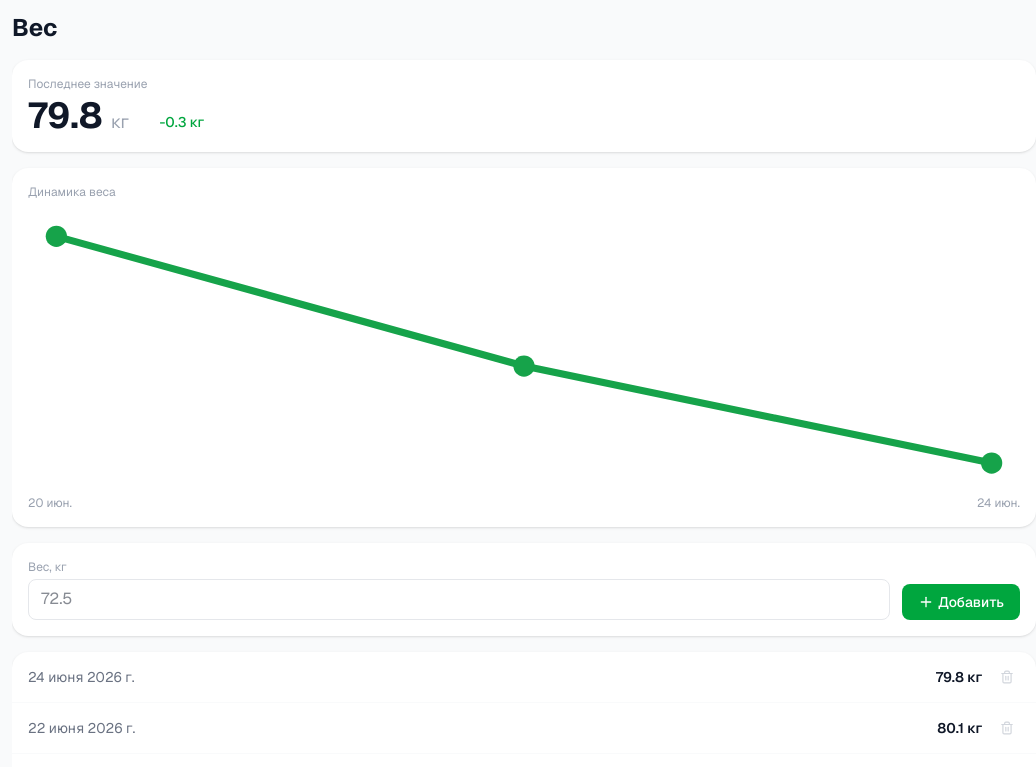
Scenario: WeightClient › deleteWeight_ShouldRemoveEntry_FromListAfterDelete
Note: history is shown reversed (newest first), first button deletes the newest (w3, 79.8)
What coordinates should you click on to do the following:
click the 1st button named "Удалить запись"
I would click on:
 (1007, 677)
Its box is [994,664,1020,690].
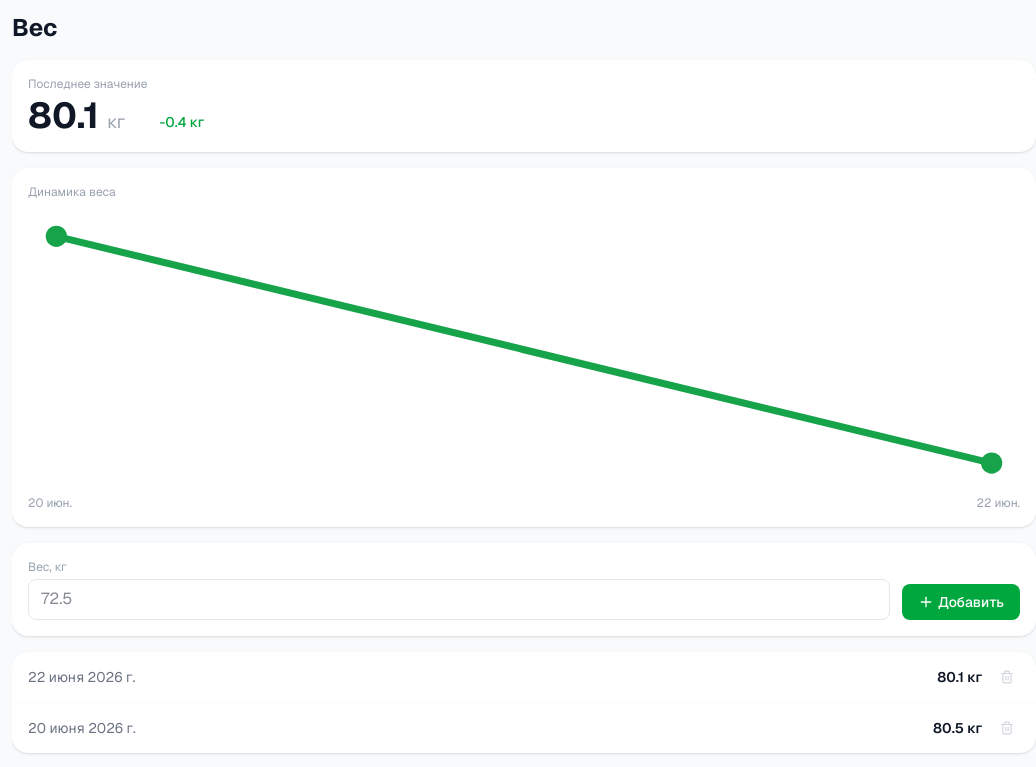
Result: the text "79.8" is gone
